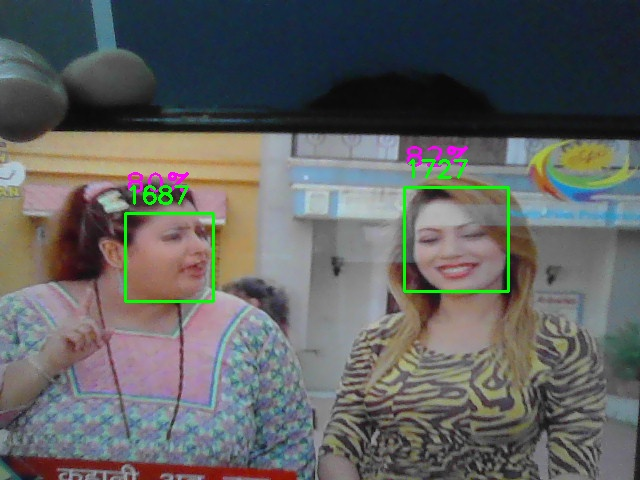fake: (404, 187, 509, 292), (125, 213, 214, 302)
